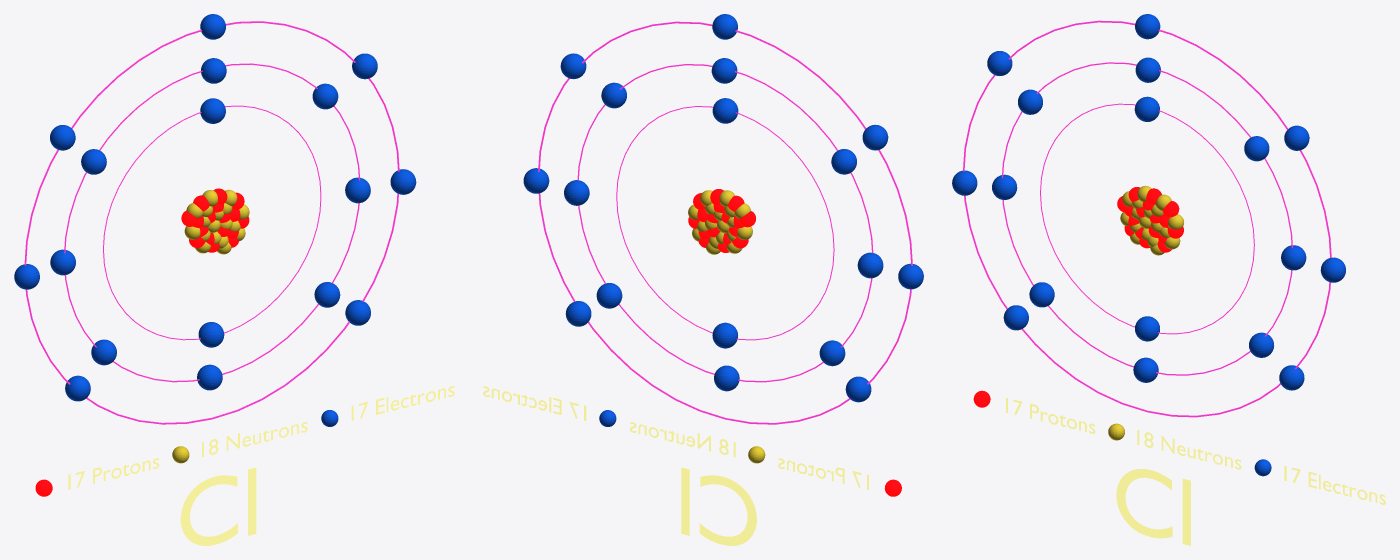
The model's file is chlorine.glb.
The picture shows the model from 3 angles, left to right: view 1: azimuth 30°, elevation 25°; view 2: azimuth 150°, elevation 25°; view 3: azimuth 330°, elevation 25°; orthographic projection.
Visible parts, largest first — view 1: BézierCircle.002, Text, BézierCircle.001, BézierCircle, Text.003, Text.002, Sphere.022, Sphere.001, Sphere.033, Sphere.039, Sphere.002, Sphere.009 (+11 smaller); view 2: BézierCircle.002, Text, BézierCircle.001, BézierCircle, Text.002, Text.003, Sphere.016, Sphere.009, Sphere.048, Sphere.037, Sphere.001, Sphere.026 (+11 smaller); view 3: BézierCircle.002, Text, BézierCircle.001, BézierCircle, Text.002, Text.003, Sphere.020, Sphere.015, Sphere.022, Sphere.051, Sphere.033, Sphere.002 (+11 smaller).
Boxes of the visible parts, x1,y1,x2,y2 form: BézierCircle.002: [24, 21, 399, 424]; Text: [180, 467, 256, 545]; BézierCircle.001: [64, 63, 360, 382]; BézierCircle: [103, 105, 321, 340]; Text.003: [351, 386, 454, 420]; Text.002: [202, 422, 307, 457]; Sphere.022: [312, 83, 338, 109]; Sphere.001: [198, 322, 224, 347]; Sphere.033: [14, 264, 39, 289]; Sphere.039: [390, 169, 416, 194]; Sphere.002: [200, 98, 225, 123]; Sphere.009: [345, 177, 370, 203]; BézierCircle.002: [538, 21, 912, 424]; Text: [681, 467, 756, 545]; BézierCircle.001: [577, 64, 873, 382]; BézierCircle: [616, 106, 834, 340]; Text.002: [630, 422, 735, 457]; Text.003: [483, 386, 586, 420]; Sphere.016: [857, 252, 883, 278]; Sphere.009: [564, 180, 589, 205]; Sphere.048: [862, 124, 888, 150]; Sphere.037: [845, 376, 871, 402]; Sphere.001: [712, 322, 737, 348]; Sphere.026: [831, 149, 856, 174]; BézierCircle.002: [963, 20, 1331, 417]; Text: [1116, 469, 1190, 545]; BézierCircle.001: [1002, 62, 1292, 375]; BézierCircle: [1040, 103, 1254, 334]; Text.002: [1137, 430, 1241, 469]; Text.003: [1284, 465, 1385, 504]; Sphere.020: [1029, 282, 1054, 307]; Sphere.015: [1135, 57, 1160, 82]; Sphere.022: [1244, 136, 1269, 161]; Sphere.051: [1279, 365, 1304, 390]; Sphere.033: [952, 170, 977, 195]; Sphere.002: [1134, 96, 1159, 121].
Bounding box in the file's own units: 4.72 × 5.44 × 0.2925.
